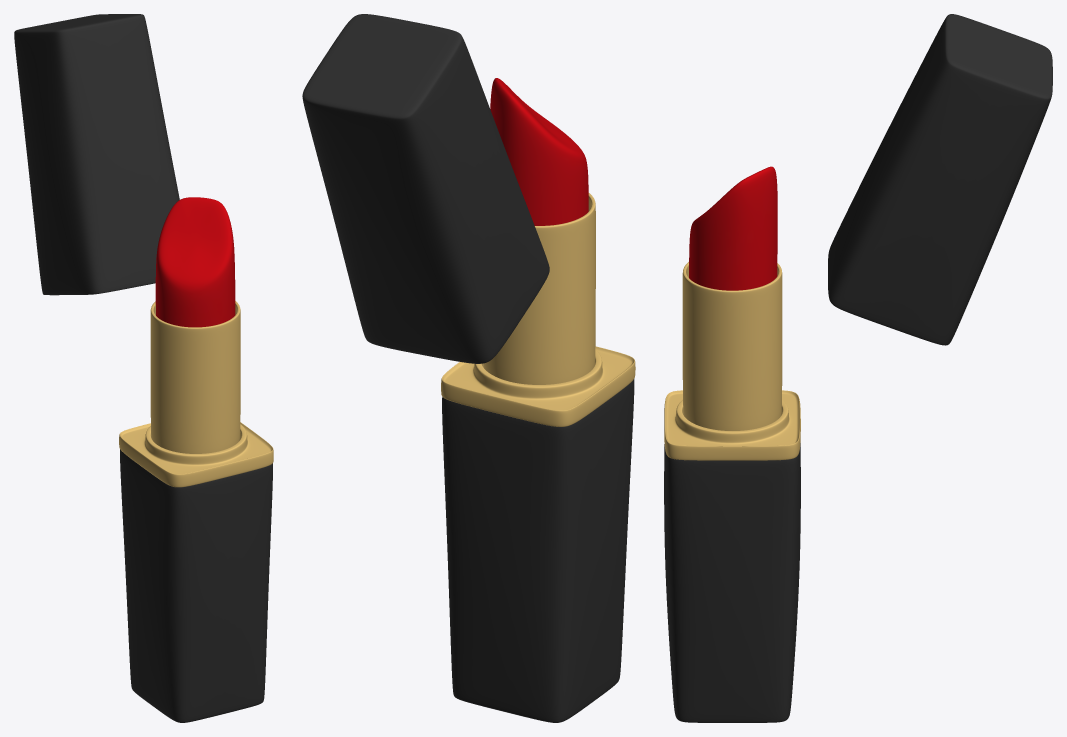
The model's file is lipstick-transformed.glb.
The picture shows the model from 3 angles, left to right: view 1: azimuth 30°, elevation 25°; view 2: azimuth 150°, elevation 25°; view 3: azimuth 270°, elevation 25°; orthographic projection. The views are drawn at different scales.
Visible parts, largest first — view 1: Cap_1, Base_0, Arm_3, Paint_4, Center_2; view 2: Cap_1, Base_0, Arm_3, Paint_4, Center_2; view 3: Cap_1, Base_0, Arm_3, Paint_4, Center_2.
Boxes of the visible parts, bbox=[...] form: Cap_1: bbox=[14, 14, 179, 295]; Base_0: bbox=[120, 449, 272, 722]; Arm_3: bbox=[150, 301, 240, 453]; Paint_4: bbox=[155, 197, 235, 327]; Center_2: bbox=[119, 422, 273, 487]; Cap_1: bbox=[302, 14, 549, 363]; Base_0: bbox=[442, 379, 634, 722]; Arm_3: bbox=[483, 193, 595, 384]; Paint_4: bbox=[490, 78, 588, 225]; Center_2: bbox=[441, 346, 635, 426]; Cap_1: bbox=[828, 14, 1052, 345]; Base_0: bbox=[664, 443, 800, 722]; Arm_3: bbox=[682, 262, 782, 430]; Paint_4: bbox=[689, 166, 777, 290]; Center_2: bbox=[664, 390, 800, 460].
Bounding box in the file's own units: 0.9504 × 4.8 × 2.54.
Materials: 4 (4 with a texture image).
